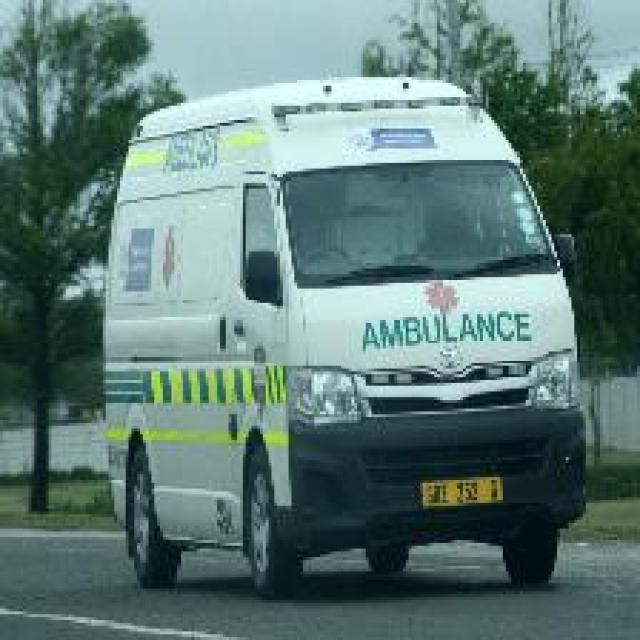emergency: (106, 76, 590, 598)
